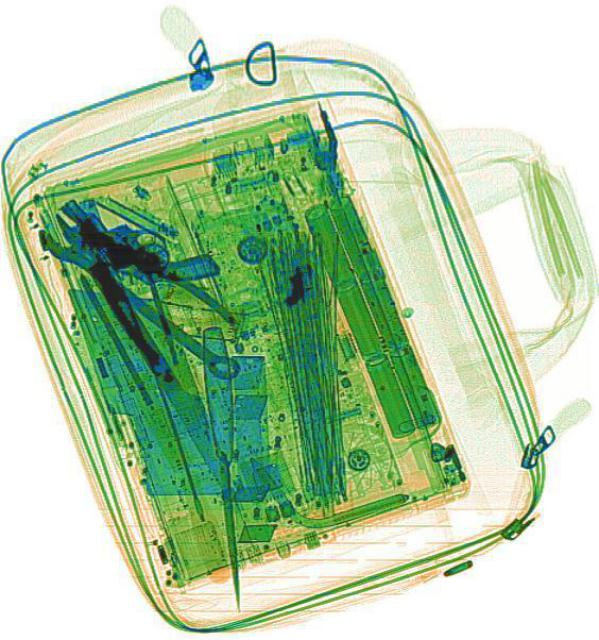Gun: (55, 151, 220, 319)
Knife: (88, 251, 251, 501), (198, 325, 251, 607)
Wrench: (32, 206, 248, 390)
